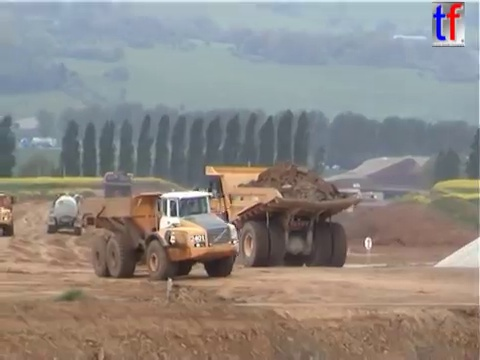truck: (190, 163, 363, 268), (80, 187, 241, 281), (44, 190, 85, 236), (102, 169, 133, 198), (1, 191, 18, 238)
